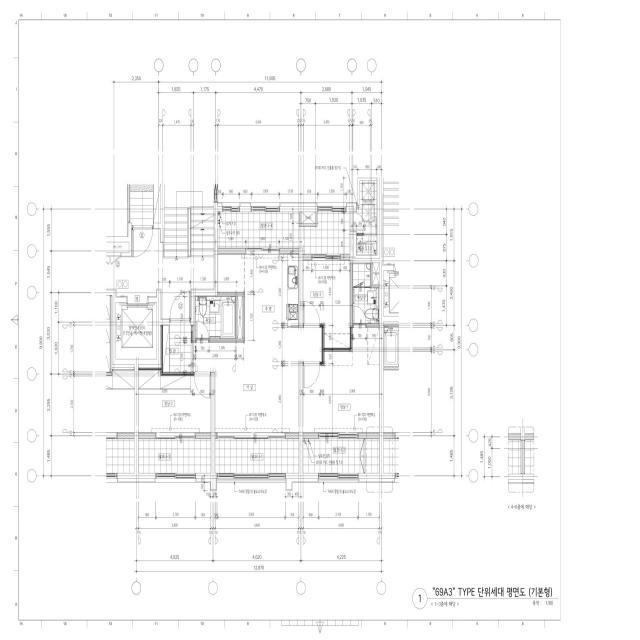space_balconi: (218, 212, 350, 254), (215, 439, 299, 473), (303, 439, 379, 473), (138, 439, 211, 473)
space_bedroom: (303, 327, 379, 432), (139, 370, 211, 432), (303, 261, 350, 348)
space_elevator: (116, 303, 157, 359)
space_elevator_hall: (106, 229, 214, 319)
space_front: (163, 325, 195, 372)
space_kitchen: (266, 254, 299, 328)
space_living_room: (195, 254, 322, 432)
space_other: (354, 181, 377, 233), (357, 236, 377, 255), (106, 242, 129, 253), (238, 295, 242, 339), (301, 212, 315, 224), (373, 263, 379, 284)
space_staircase: (163, 184, 214, 259)
space_toilet: (195, 296, 235, 338), (353, 264, 379, 323)
